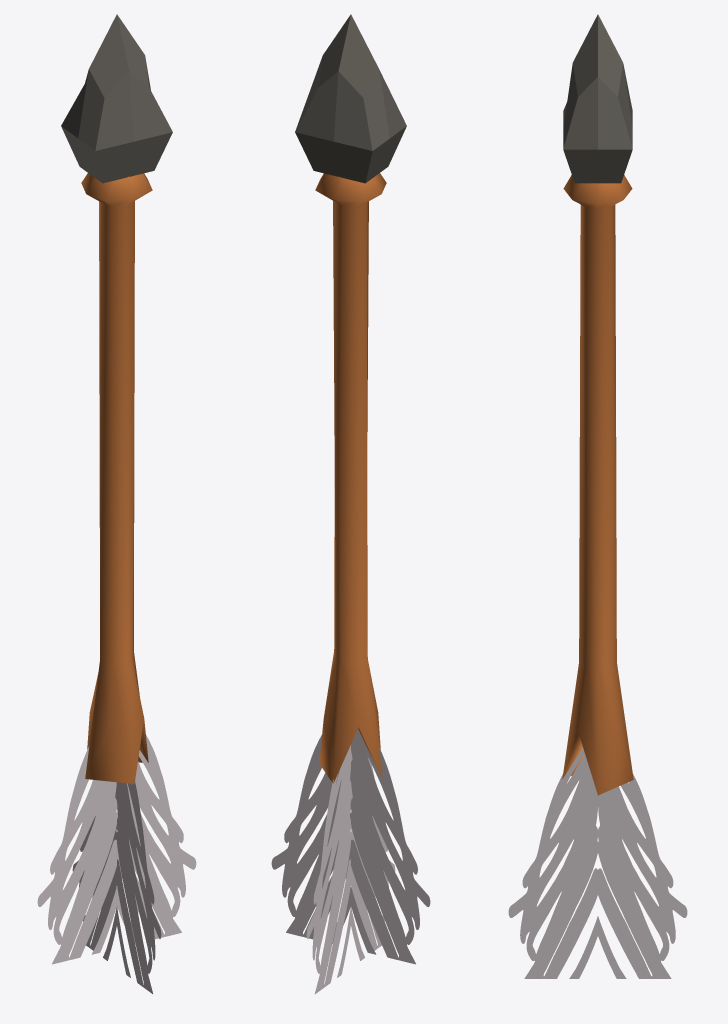
The model's file is Arrow.glb.
3 views of the same model, side by side, from view 1: azimuth 30°, elevation 25°; view 2: azimuth 150°, elevation 25°; view 3: azimuth 270°, elevation 25° (orthographic).
Parts seen in each view (by area): view 1: Shaft, Feather, Blade, Feather_2; view 2: Shaft, Feather, Blade, Feather_2; view 3: Shaft, Feather_2, Blade.
Boxes of the visible parts, x1=… form: Shaft: x1=81, y1=173, x2=152, y2=783; Feather: x1=37, y1=735, x2=196, y2=964; Blade: x1=61, y1=14, x2=172, y2=183; Feather_2: x1=72, y1=779, x2=161, y2=993; Shaft: x1=315, y1=173, x2=386, y2=783; Feather: x1=271, y1=729, x2=430, y2=964; Blade: x1=295, y1=14, x2=406, y2=183; Feather_2: x1=306, y1=745, x2=395, y2=993; Shaft: x1=562, y1=175, x2=633, y2=795; Feather_2: x1=508, y1=747, x2=687, y2=978; Blade: x1=563, y1=14, x2=632, y2=183.
Bounding box in the file's own units: 1.11 × 4.91 × 1.07.
Materials: 3 (1 with a texture image).
